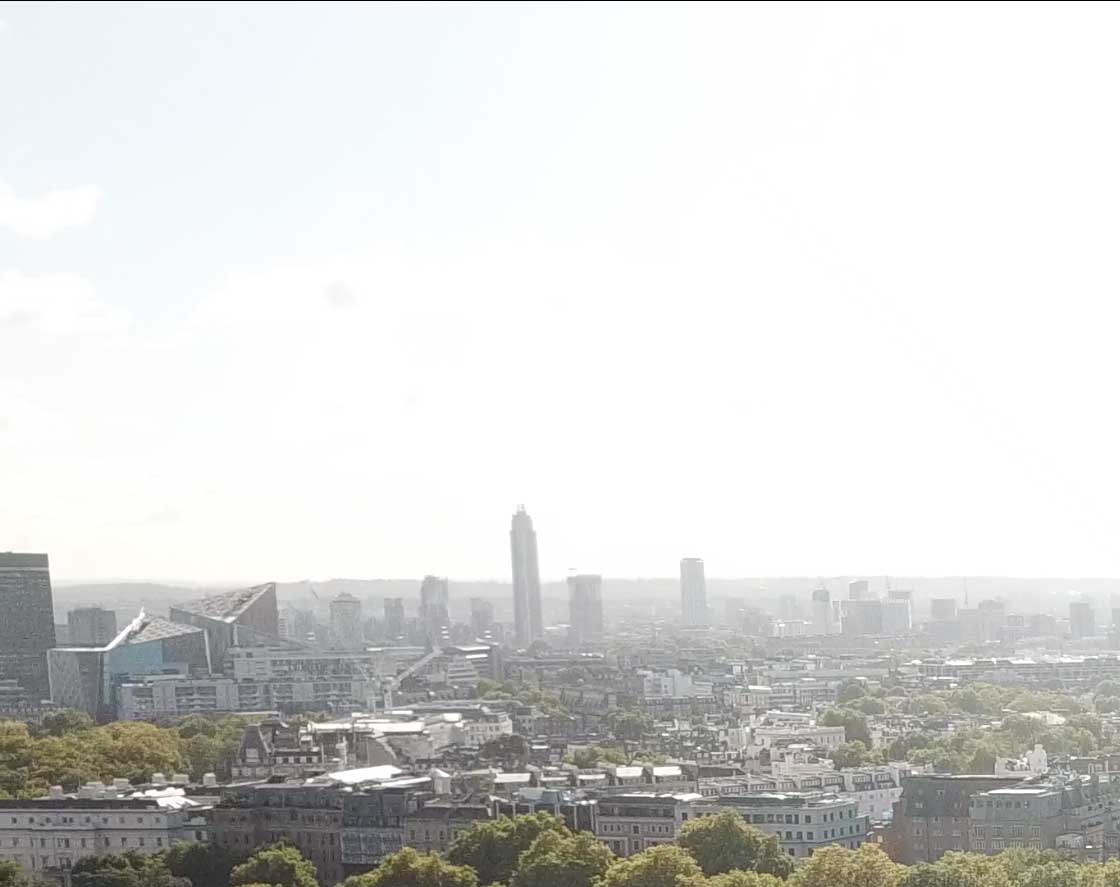building: (4, 781, 222, 881)
trees: (368, 814, 1120, 885)
